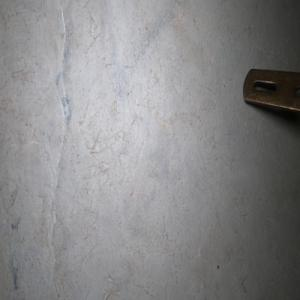MetalPart: (242, 67, 300, 121)
